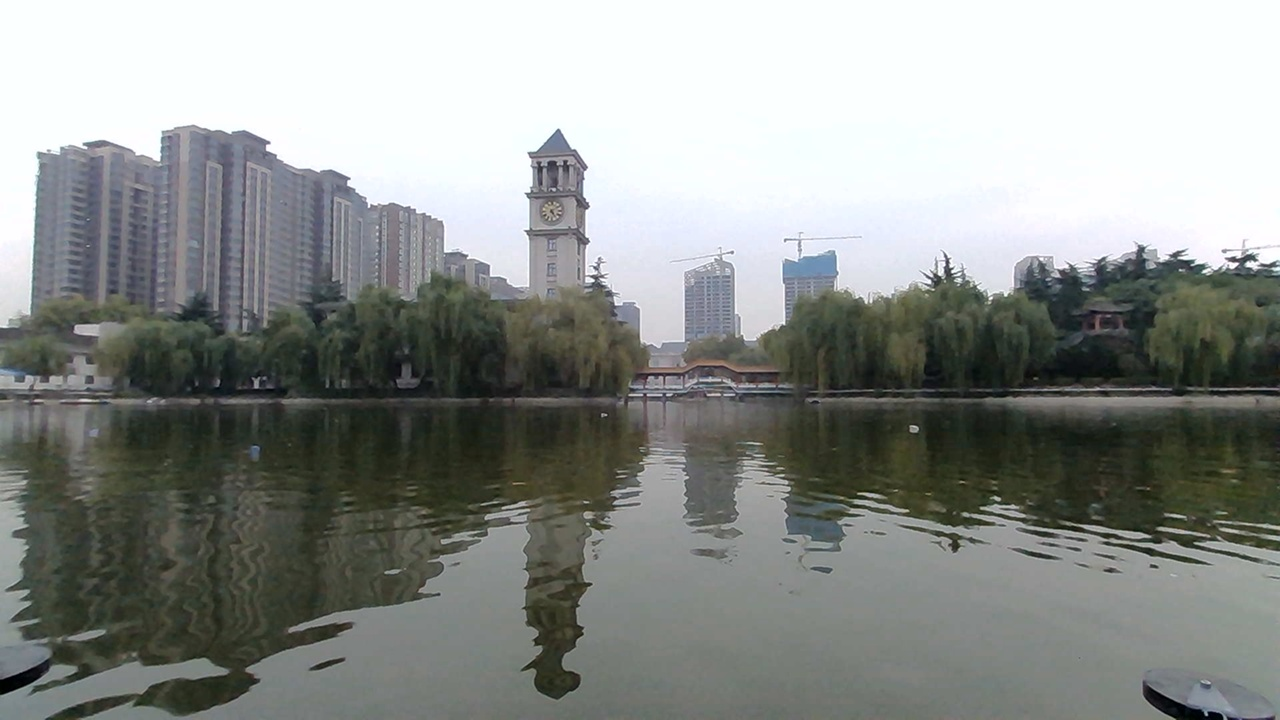bottle: (78, 414, 111, 446), (236, 435, 273, 463), (901, 414, 933, 443)
